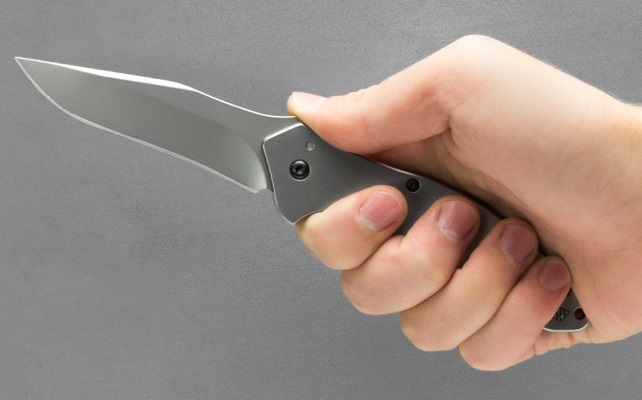knife: (10, 41, 484, 303)
